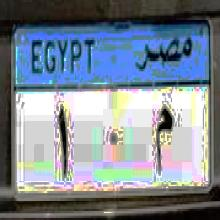1: (55, 102, 71, 180)
meem: (152, 96, 175, 178)
